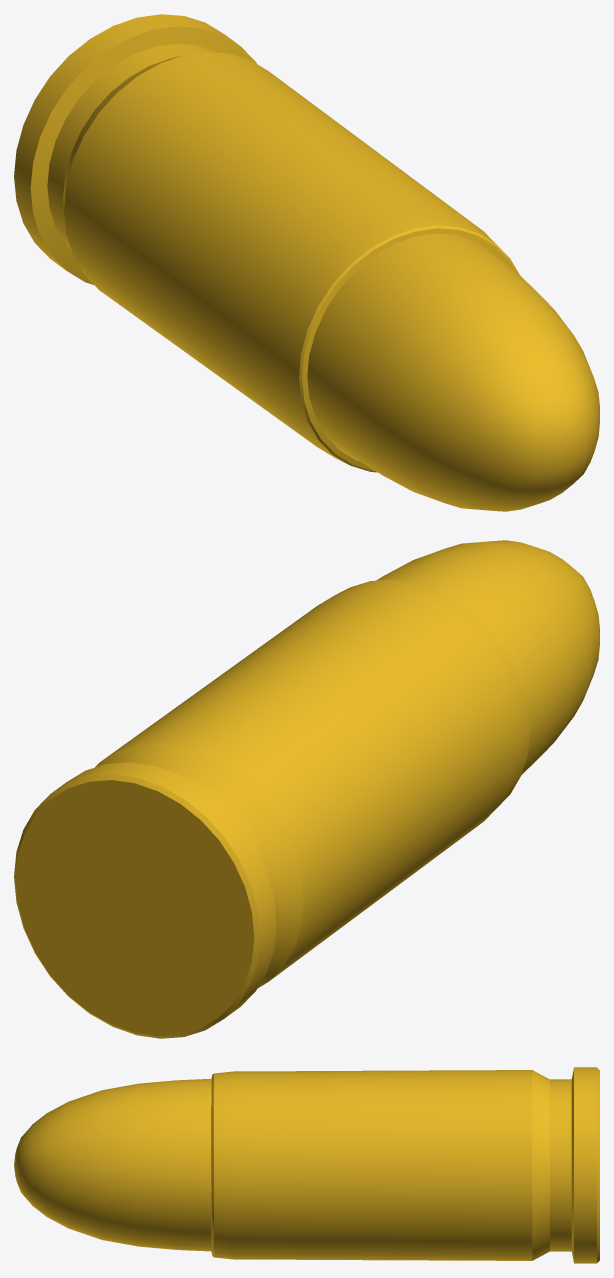
File: GunBullet.fbx
The picture shows the model from 3 angles, top to bottom: view 1: azimuth 30°, elevation 25°; view 2: azimuth 150°, elevation 25°; view 3: azimuth 270°, elevation 25°; orthographic projection. The views are drawn at different scales.
Visible parts, largest first — view 1: 9mm_Bullet_bullet_0; view 2: 9mm_Bullet_bullet_0; view 3: 9mm_Bullet_bullet_0.
Part boxes in pixels (bbox=[...]): 9mm_Bullet_bullet_0: bbox=[14, 14, 599, 511]; 9mm_Bullet_bullet_0: bbox=[14, 540, 599, 1038]; 9mm_Bullet_bullet_0: bbox=[14, 1067, 599, 1263].
Size of the model in its own units: 6.21 by 6.21 by 18.53.
